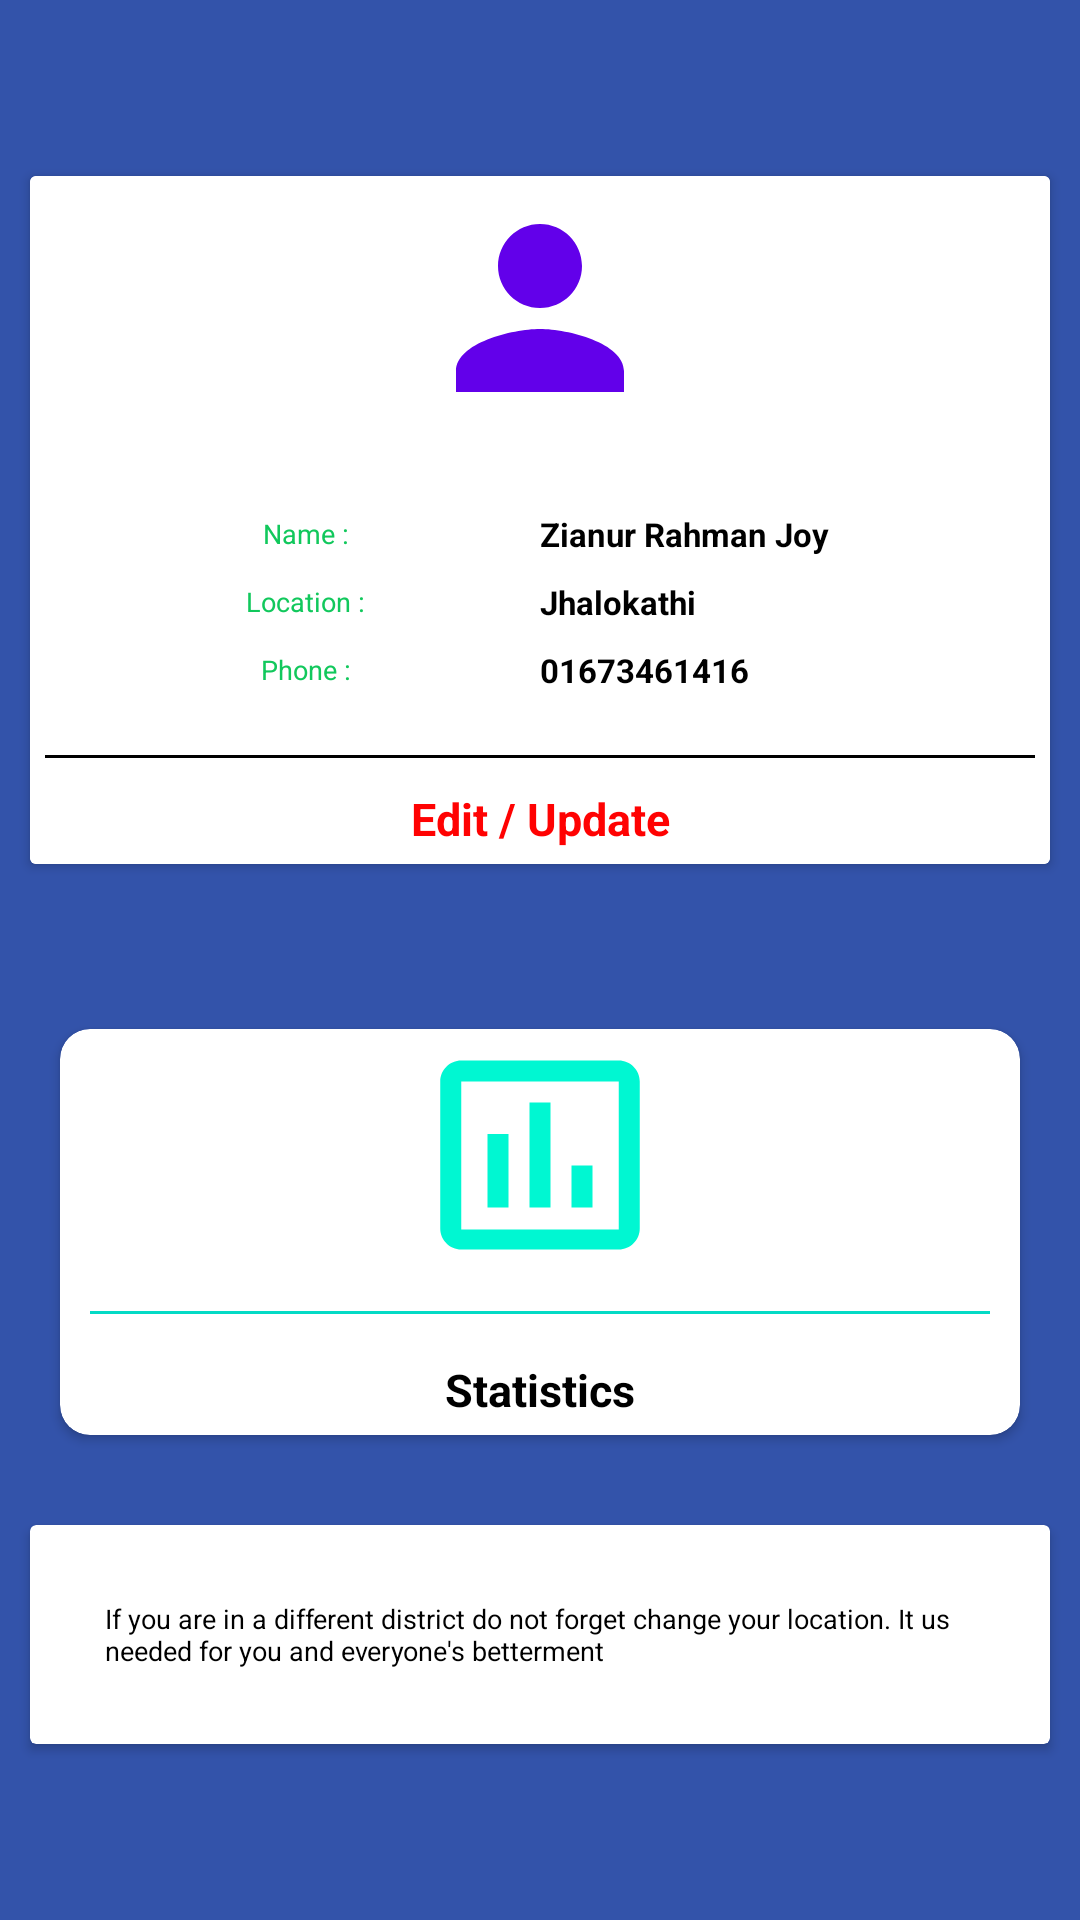

Icons on this 1080px x 1920px Android screen, each with its box as (x1, y1, x2, y2):
person: (456, 224, 624, 392)
